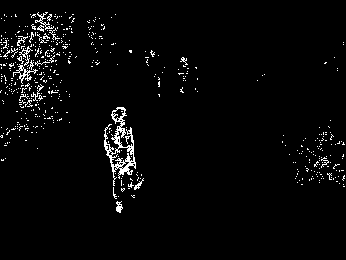person: (97, 102, 147, 213)
